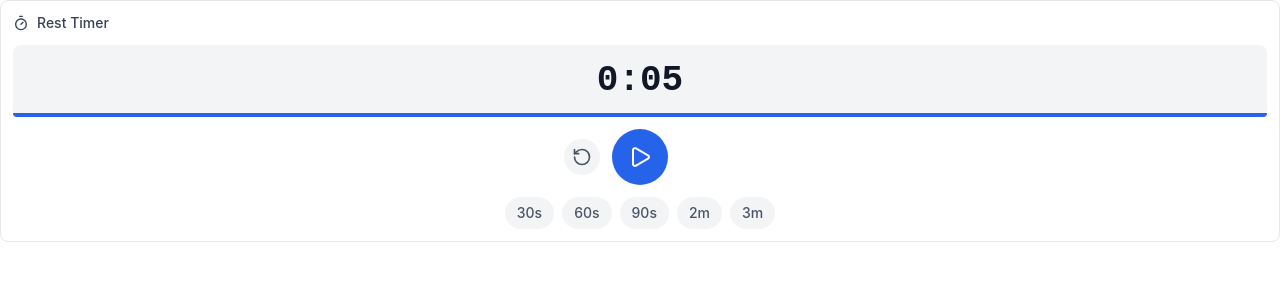
Test: RestTimer › should show completion message when timer reaches zero
Note: Start the timer
Step 1. Click the button named "Start timer" → (640, 157), box [612,129,668,185]
Wait 6000 ms
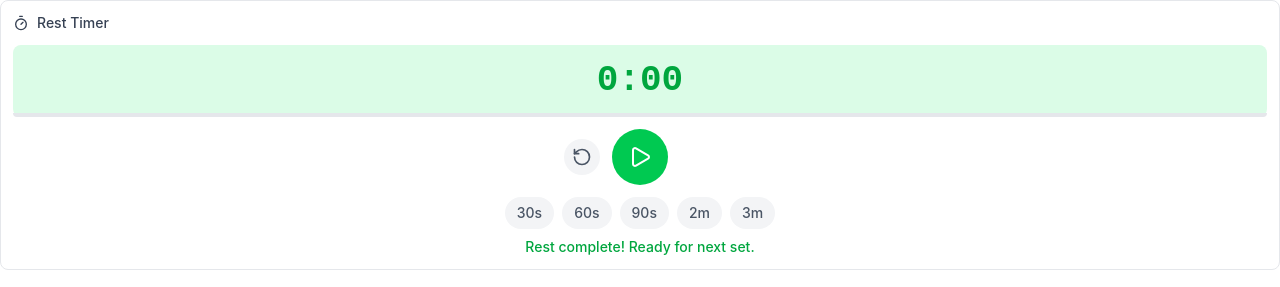
Check: the text "0:00" is shown, box [13,45,1267,117]
Check: the text "Rest complete! Ready for next set." is shown, box [525,238,755,255]
